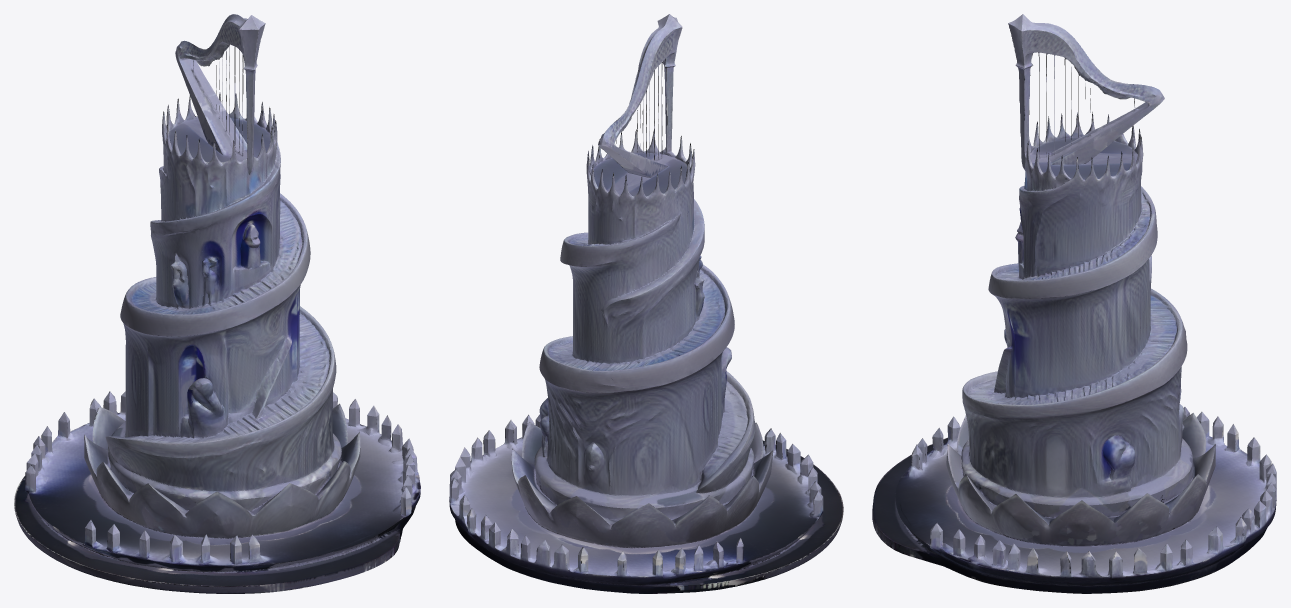
Rendered from choir.glb.
3 renders of one model, left to right at view 1: azimuth 30°, elevation 25°; view 2: azimuth 150°, elevation 25°; view 3: azimuth 270°, elevation 25°, orthographic. The views are drawn at different scales.
Parts seen in each view (by area): view 1: model; view 2: model; view 3: model.
Part boxes in pixels (box(x1,y1,x2,y2)): model: box(14, 14, 420, 593); model: box(449, 14, 843, 593); model: box(872, 14, 1276, 593).
Size of the model in its own units: 1.4 by 1.9 by 1.39.
Materials: 1 (1 with a texture image).
